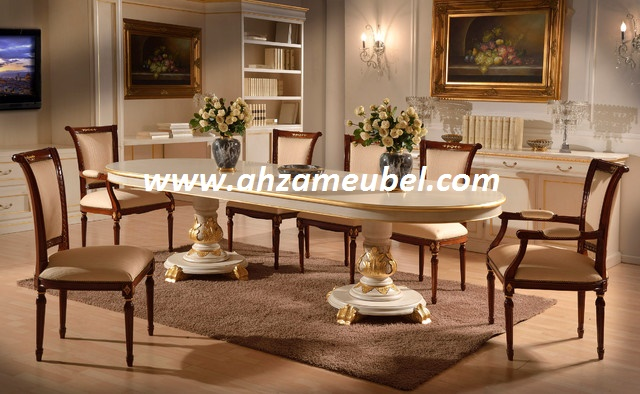Carving Table: (107, 152, 491, 339)
